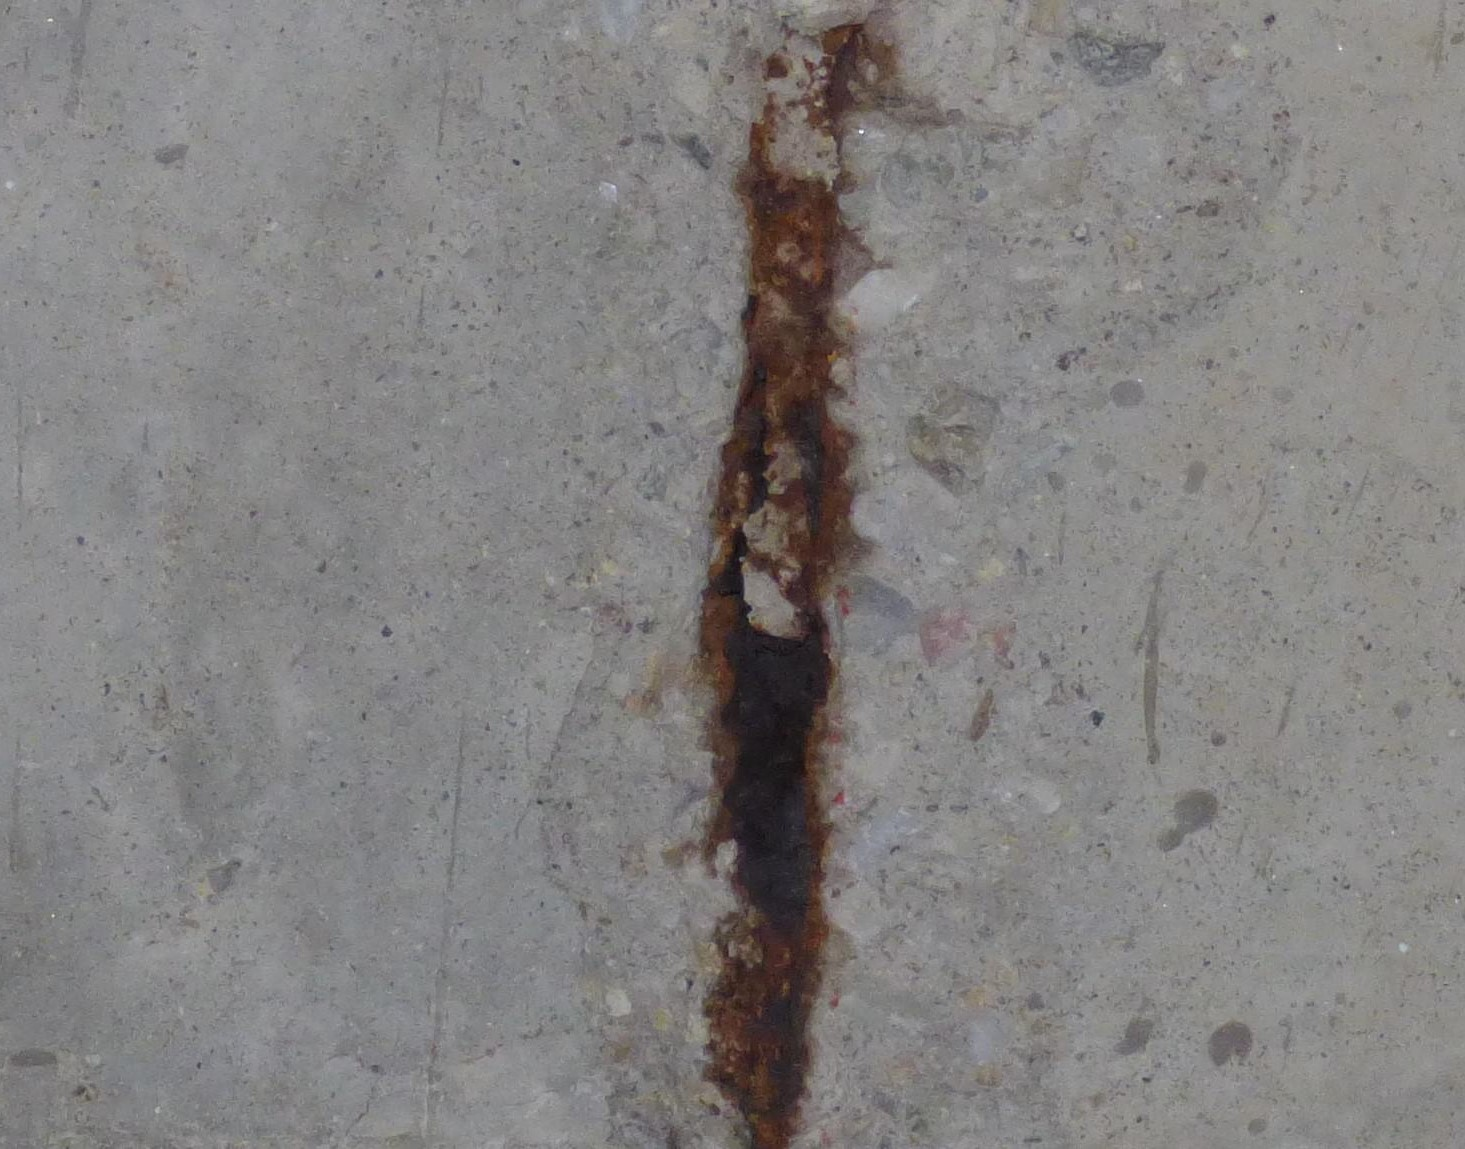Exposed reinforcement: (699, 1, 855, 1149)
